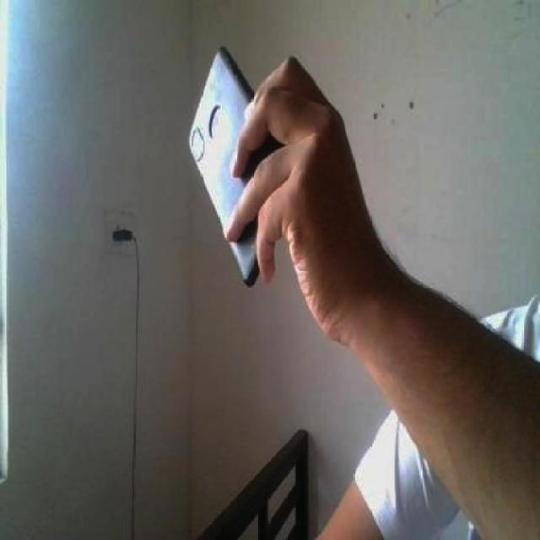phone: (150, 45, 364, 278)
